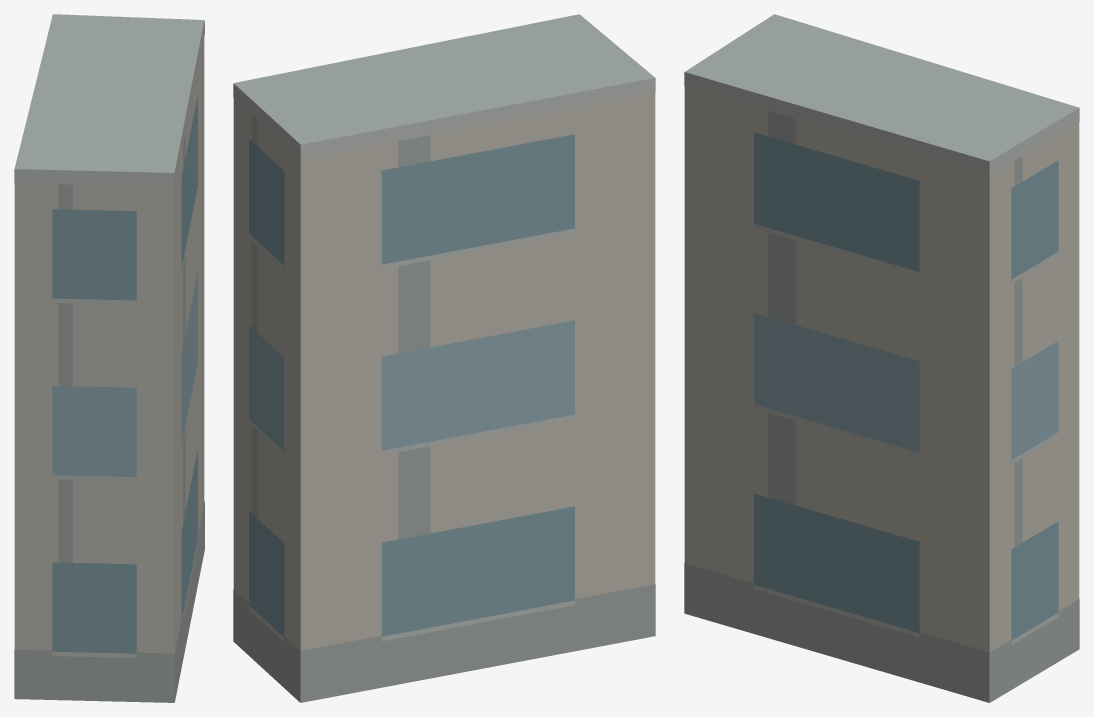
The model's file is survey-upis-32571575.glb.
3 views of the same model, side by side, from view 1: azimuth 30°, elevation 25°; view 2: azimuth 150°, elevation 25°; view 3: azimuth 270°, elevation 25° (orthographic). The views are drawn at different scales.
Parts seen in each view (by area): view 1: survey-upis-32571575.tmp; view 2: survey-upis-32571575.tmp; view 3: survey-upis-32571575.tmp.
Boxes of the visible parts, <box> form: survey-upis-32571575.tmp: <box>14,14,204,702</box>; survey-upis-32571575.tmp: <box>233,14,655,702</box>; survey-upis-32571575.tmp: <box>684,14,1079,702</box>.
Size of the model in its own units: 5.35 by 9.15 by 6.06.
